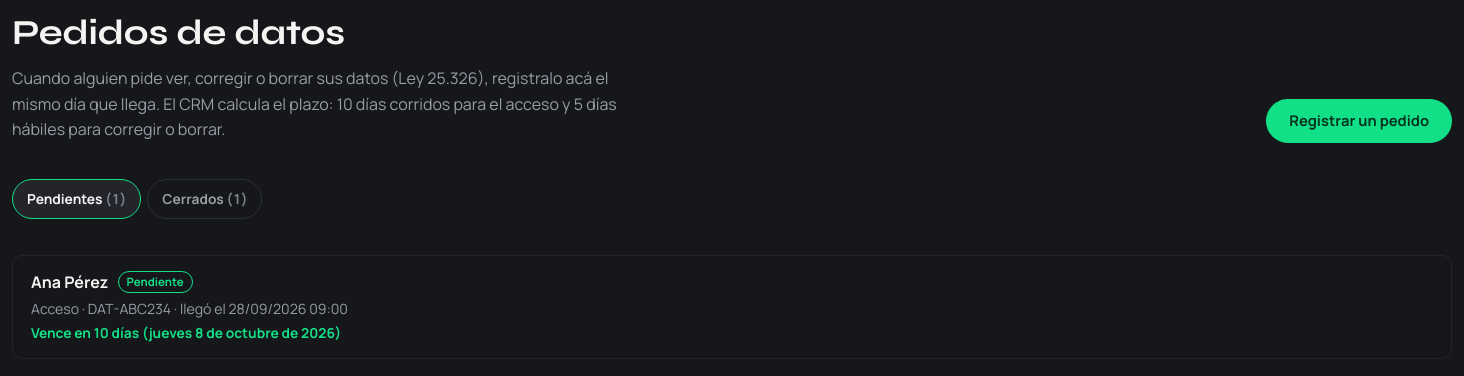
DataRequestsPage › separa pendientes y cerrados y muestra el plazo
This screenshot has width=1464, height=376.
Expected: the text "Vence en 10 días (jueves 8 de octubre de 2026)" is shown, [31,323,341,342]
Click the button "Cerrados (1)".
click(205, 199)  # box [147,179,262,219]
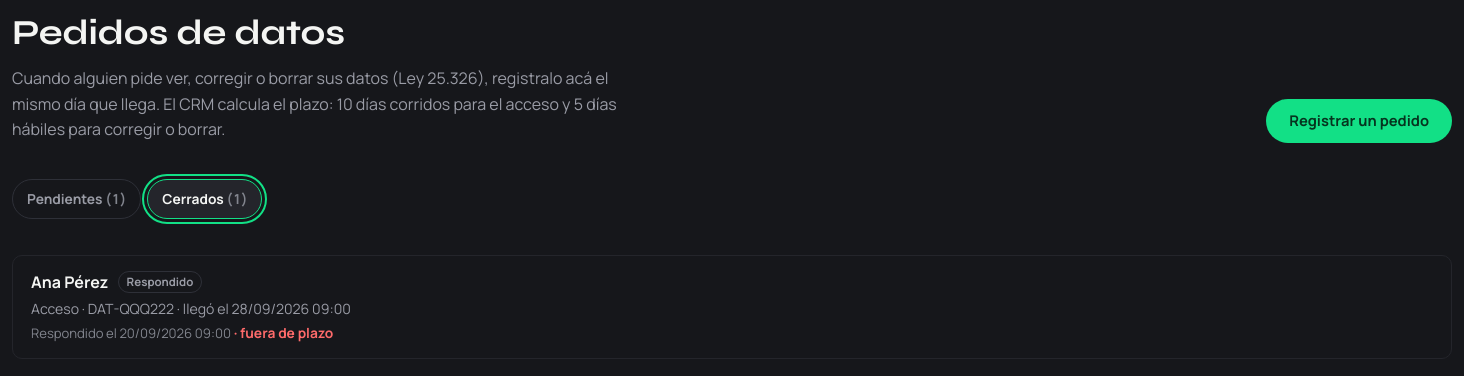
Expected: the text "· fuera de plazo" is shown, [231,323,333,342]
